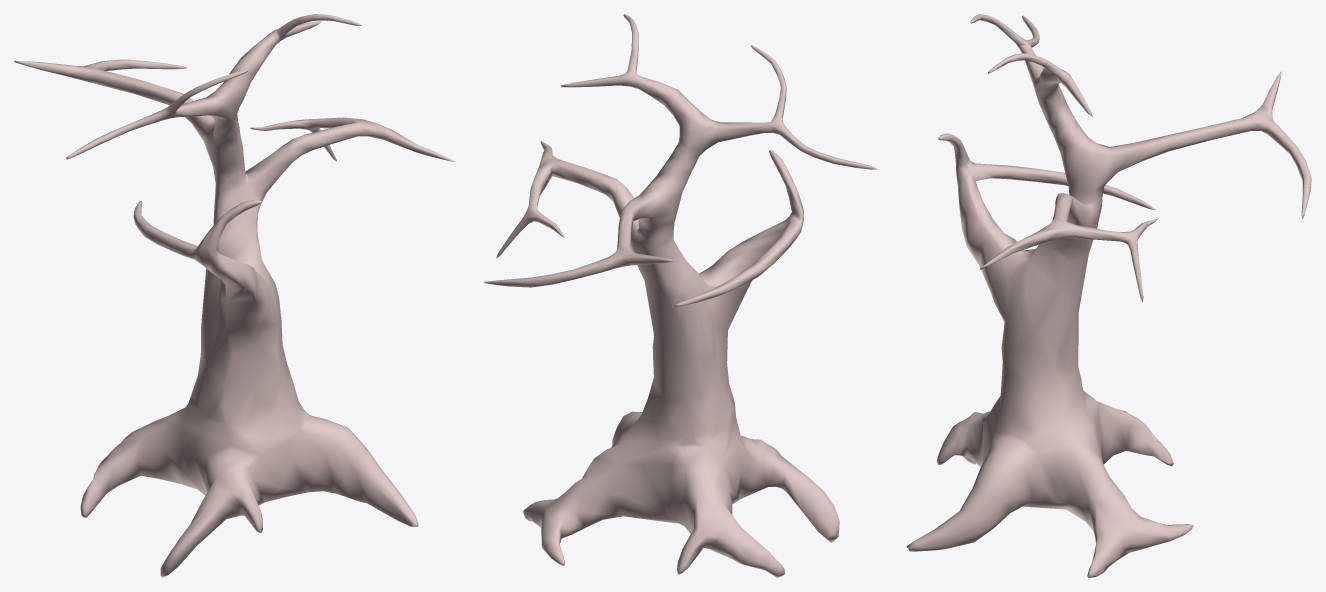
The model's file is testbigtree.fbx.
The picture shows the model from 3 angles, left to right: view 1: azimuth 30°, elevation 25°; view 2: azimuth 150°, elevation 25°; view 3: azimuth 270°, elevation 25°; orthographic projection. The views are drawn at different scales.
Visible parts, largest first — view 1: TreeTrunk7_2; view 2: TreeTrunk7_2; view 3: TreeTrunk7_2.
Part boxes in pixels (x1,y1,x2,y2): TreeTrunk7_2: (14,14,454,577); TreeTrunk7_2: (484,14,877,577); TreeTrunk7_2: (906,14,1311,577).
Size of the model in its own units: 4467 by 5844 by 4312.
